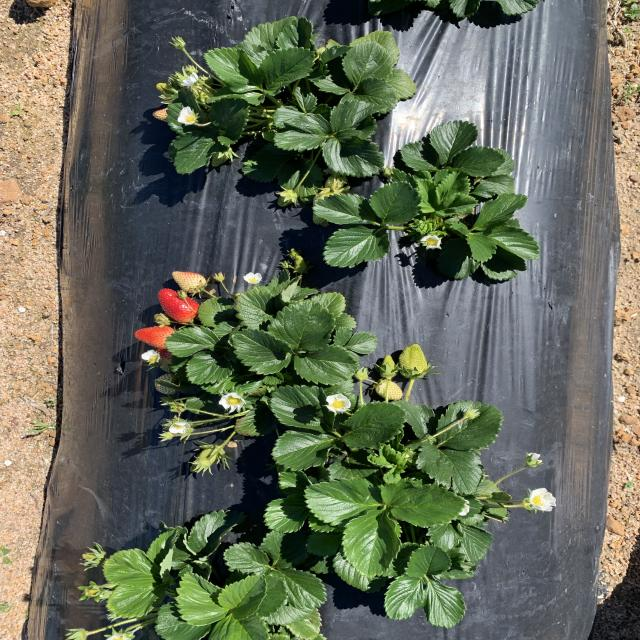unripe: (155, 286, 206, 324), (133, 329, 180, 351)
